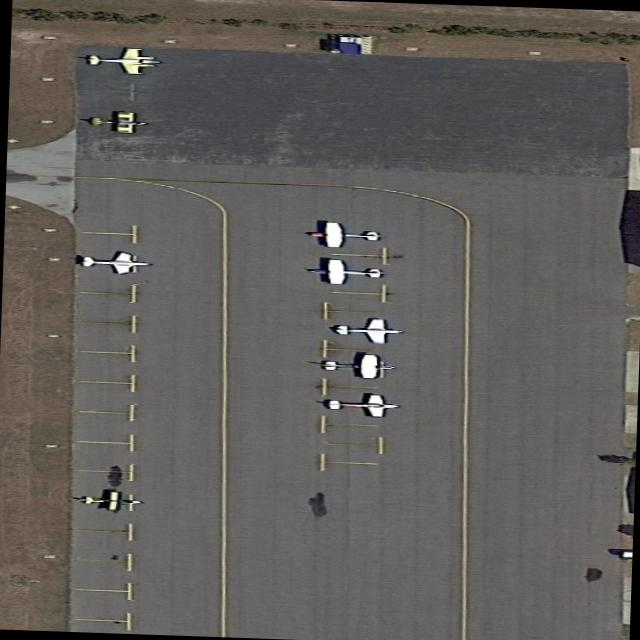plane: (307, 258, 386, 286), (307, 221, 382, 249), (318, 352, 394, 379), (85, 47, 161, 74), (330, 317, 403, 344), (78, 250, 152, 275), (324, 394, 401, 417), (77, 489, 143, 511), (87, 111, 146, 133)
